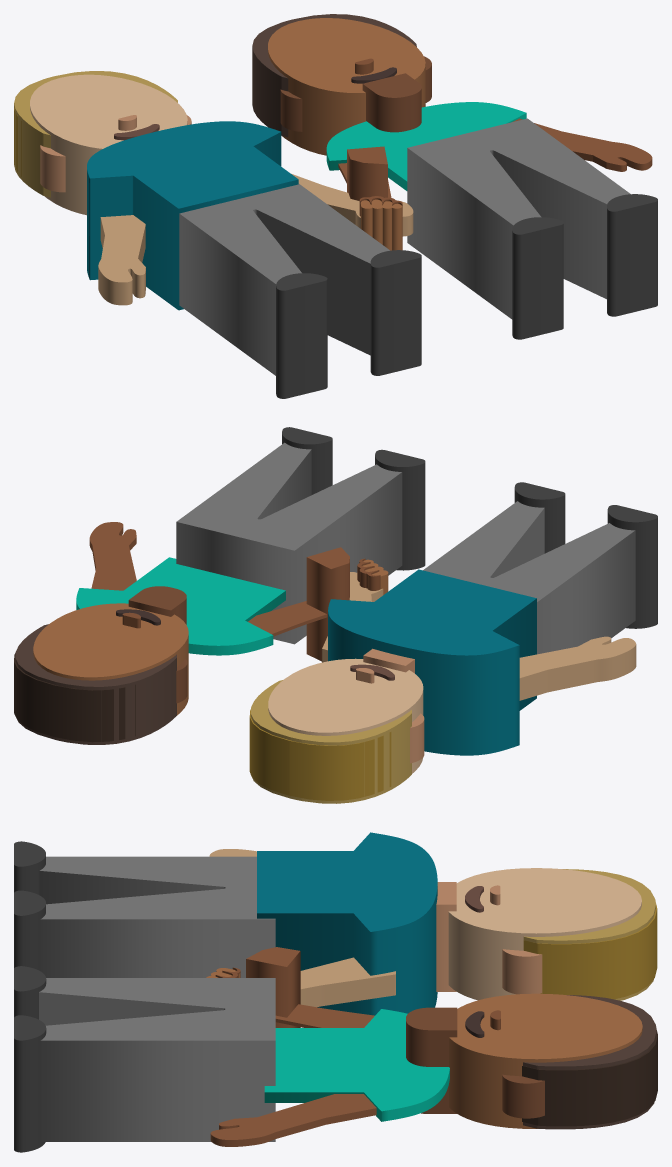
The model's file is emoji_u1f468_1f3fc_200d_1f91d_200d_1f468_1f3fe.glb.
The picture shows the model from 3 angles, top to bottom: view 1: azimuth 30°, elevation 25°; view 2: azimuth 150°, elevation 25°; view 3: azimuth 270°, elevation 25°; orthographic projection. The views are drawn at different scales.
Visible parts, largest first — view 1: emoji_u1f468_1f3fc_200d_1f91d_200d_1f468_1f3fe; view 2: emoji_u1f468_1f3fc_200d_1f91d_200d_1f468_1f3fe; view 3: emoji_u1f468_1f3fc_200d_1f91d_200d_1f468_1f3fe.
Boxes of the visible parts, left/top/right/bottom form: emoji_u1f468_1f3fc_200d_1f91d_200d_1f468_1f3fe: left=14, top=14, right=657, bottom=398; emoji_u1f468_1f3fc_200d_1f91d_200d_1f468_1f3fe: left=14, top=427, right=657, bottom=803; emoji_u1f468_1f3fc_200d_1f91d_200d_1f468_1f3fe: left=14, top=832, right=657, bottom=1152.
Size of the model in its own units: 0.0346 by 0.0066 by 0.0334.
